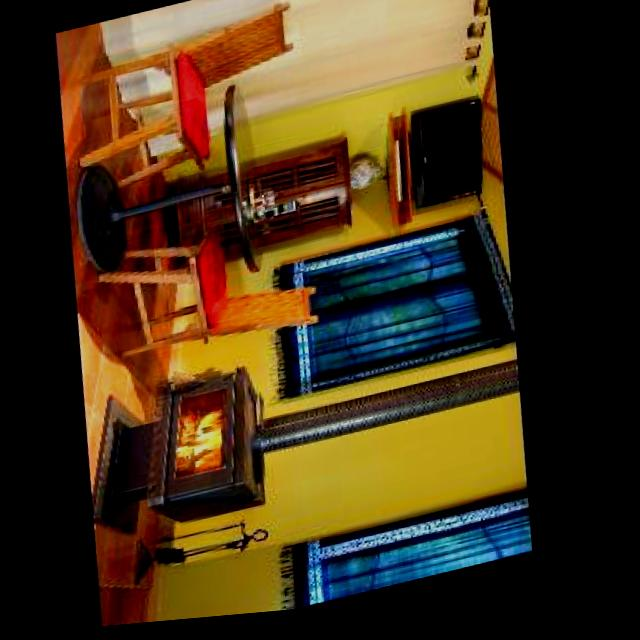Fire: (174, 390, 246, 484)
